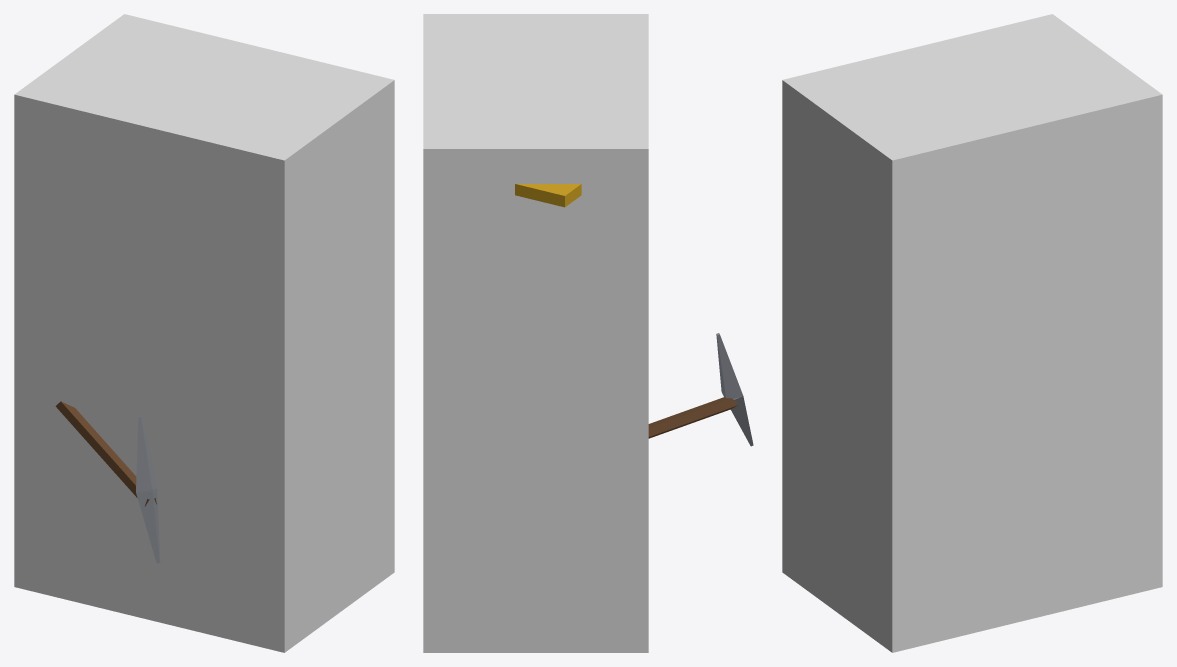
File: plains_miner_skeleton.fbx
3 views of the same model, side by side, from view 1: azimuth 30°, elevation 25°; view 2: azimuth 150°, elevation 25°; view 3: azimuth 270°, elevation 25° (orthographic). The views are drawn at different scales.
Parts seen in each view (by area): view 1: Root__0.00_2.75_-0.80__2.23_5.50_3.16, ArmR__Torso__0.83_3.62_0.00; view 2: Root__0.00_2.75_-0.80__2.23_5.50_3.16, ArmR__Torso__0.83_3.62_0.00, Head__Torso__0.00_3.83_0.00; view 3: Root__0.00_2.75_-0.80__2.23_5.50_3.16.
Boxes of the visible parts, x1,y1,x2,y2 form: Root__0.00_2.75_-0.80__2.23_5.50_3.16: (14,14,394,652); ArmR__Torso__0.83_3.62_0.00: (55,401,160,563); Root__0.00_2.75_-0.80__2.23_5.50_3.16: (423,14,648,652); ArmR__Torso__0.83_3.62_0.00: (648,333,753,446); Head__Torso__0.00_3.83_0.00: (515,184,581,207); Root__0.00_2.75_-0.80__2.23_5.50_3.16: (782,14,1162,652).
Bounding box in the file's own units: 98.3 × 155 × 108.
Materials: 2 (1 with a texture image).
